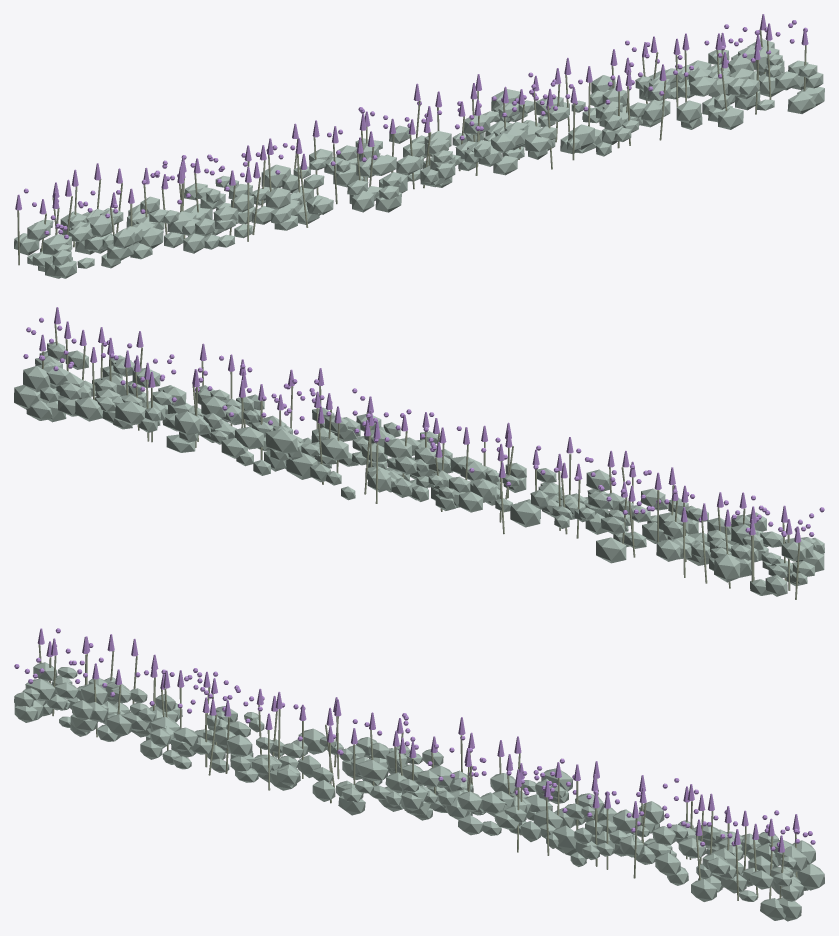
The picture shows the model from 3 angles, top to bottom: view 1: azimuth 30°, elevation 25°; view 2: azimuth 150°, elevation 25°; view 3: azimuth 330°, elevation 25°; orthographic projection. The views are drawn at different scales.
Parts seen in each view (by area): view 1: no part large enough to name; view 2: Icosphere.024, Icosphere.192, Icosphere.078, Icosphere.054, Icosphere.120, Icosphere.193, Icosphere.151; view 3: no part large enough to name.
Boxes of the visible parts, left/top/right/bottom form: Icosphere.024: left=596, top=537, right=626, bottom=563; Icosphere.192: left=510, top=501, right=540, bottom=527; Icosphere.078: left=265, top=429, right=297, bottom=453; Icosphere.054: left=714, top=554, right=740, bottom=582; Icosphere.120: left=115, top=401, right=146, bottom=425; Icosphere.193: left=23, top=366, right=50, bottom=392; Icosphere.151: left=286, top=453, right=317, bottom=479.
Size of the model in its own units: 10.22 by 1.11 by 1.16.
